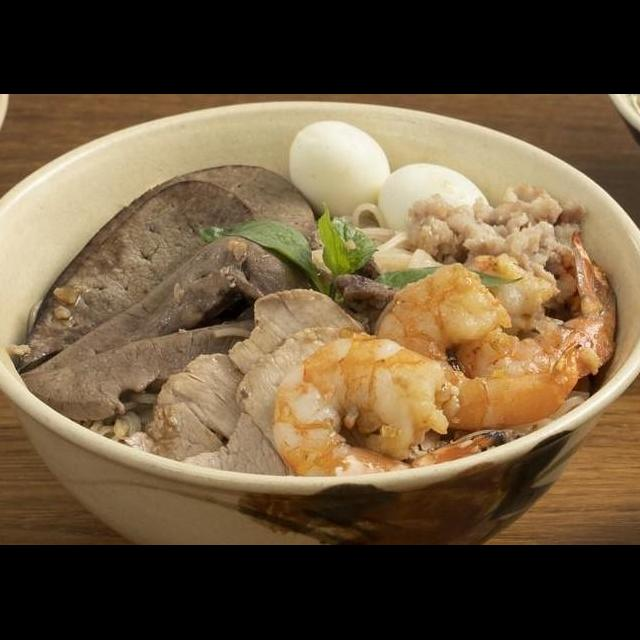gan: (10, 158, 325, 376), (12, 228, 314, 388), (9, 312, 266, 426)
thit bam: (394, 177, 595, 316)
thit heo: (166, 322, 390, 497), (111, 348, 270, 488), (223, 284, 381, 396)
tom: (366, 257, 588, 438), (265, 332, 507, 490), (447, 228, 622, 394)
trung: (285, 117, 394, 226), (376, 156, 497, 238)
